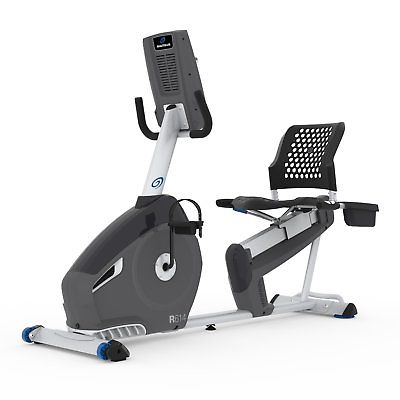gym_bike: (16, 25, 374, 362)
